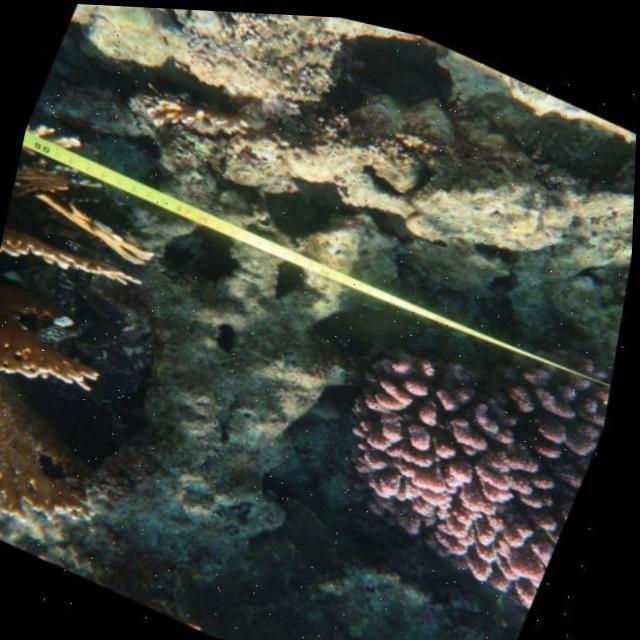Healthy Coral: (279, 261, 633, 623), (0, 297, 159, 580), (0, 153, 171, 301)
